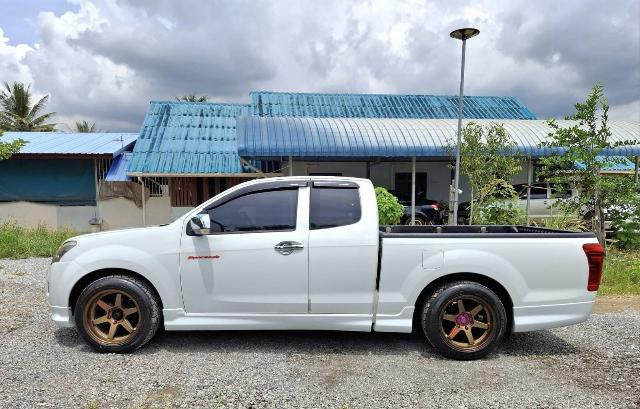pickup-truck: (38, 168, 616, 386)
